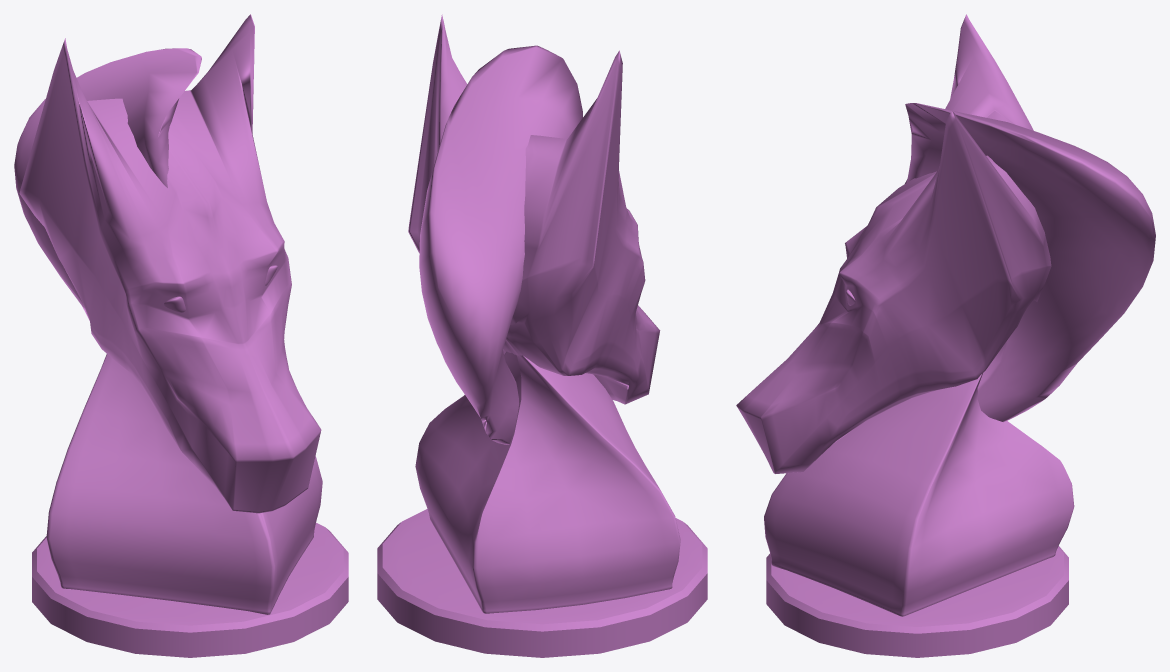
File: knight.fbx
3 views of the same model, side by side, from view 1: azimuth 30°, elevation 25°; view 2: azimuth 150°, elevation 25°; view 3: azimuth 270°, elevation 25° (orthographic). The views are drawn at different scales.
Parts seen in each view (by area): view 1: Cylinder024; view 2: Cylinder024; view 3: Cylinder024.
Part boxes in pixels (<box>): Cylinder024: <box>14,14,348,657</box>; Cylinder024: <box>377,14,707,657</box>; Cylinder024: <box>736,14,1155,657</box>.
Size of the model in its own units: 37.65 by 72.02 by 51.42.
